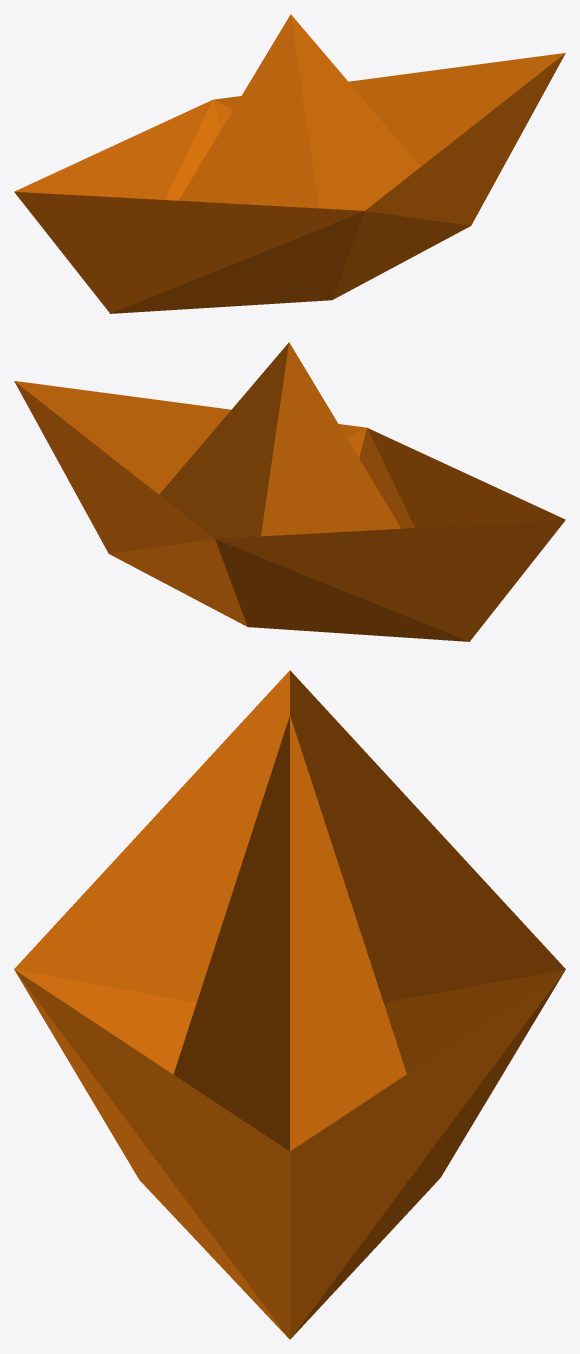
File: boat_model.glb
3 renders of one model, top to bottom at view 1: azimuth 30°, elevation 25°; view 2: azimuth 150°, elevation 25°; view 3: azimuth 270°, elevation 25°, orthographic. The views are drawn at different scales.
Parts seen in each view (by area): view 1: 0001; view 2: 0001; view 3: 0001.
Boxes of the visible parts, bbox=[...] form: 0001: bbox=[14, 14, 565, 313]; 0001: bbox=[14, 342, 565, 641]; 0001: bbox=[14, 670, 565, 1339].
Bounding box in the file's own units: 2.21 × 0.9777 × 1.05.
